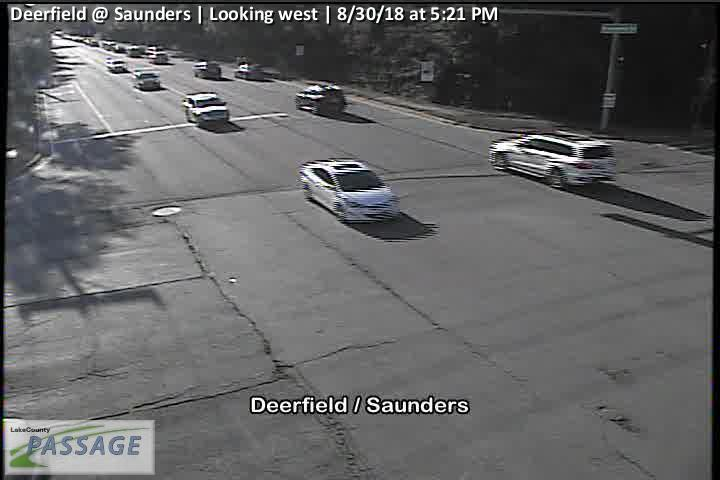SUV: (489, 130, 617, 187), (296, 83, 345, 116), (184, 92, 229, 124), (192, 61, 221, 80)
Sedan: (298, 157, 401, 224), (133, 70, 161, 90), (233, 64, 264, 80)
